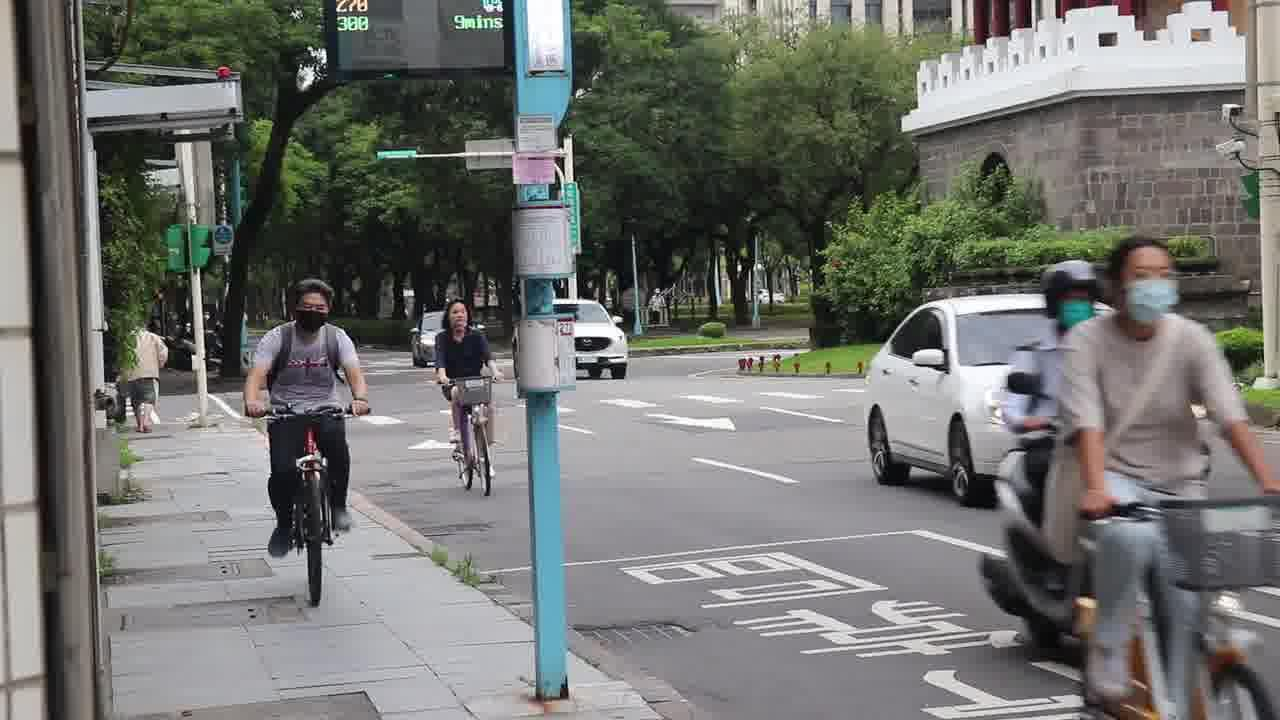bicyclist: (1041, 236, 1280, 720), (245, 277, 371, 605), (434, 297, 502, 497)
helmet: (1043, 260, 1100, 332), (292, 278, 334, 334), (442, 296, 473, 333)
no-helmet: (1108, 234, 1181, 325)
